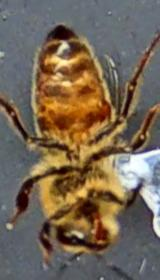varroa_mite: (86, 94, 125, 126)
